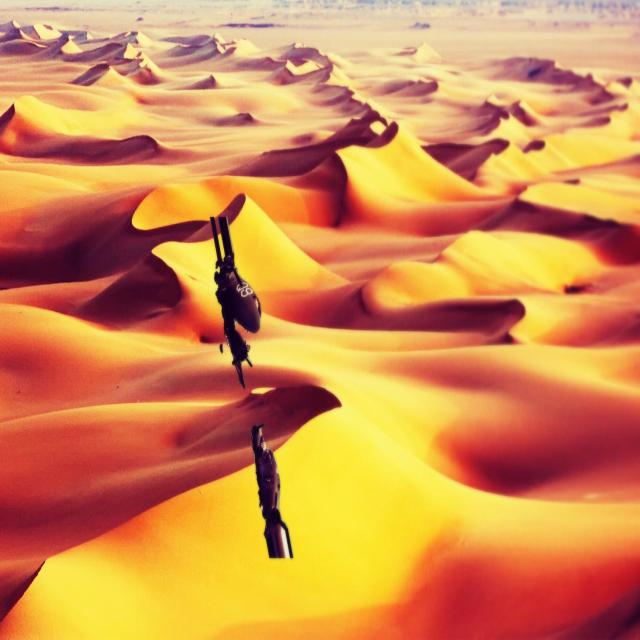airplane: (210, 213, 262, 388), (250, 422, 293, 559)
